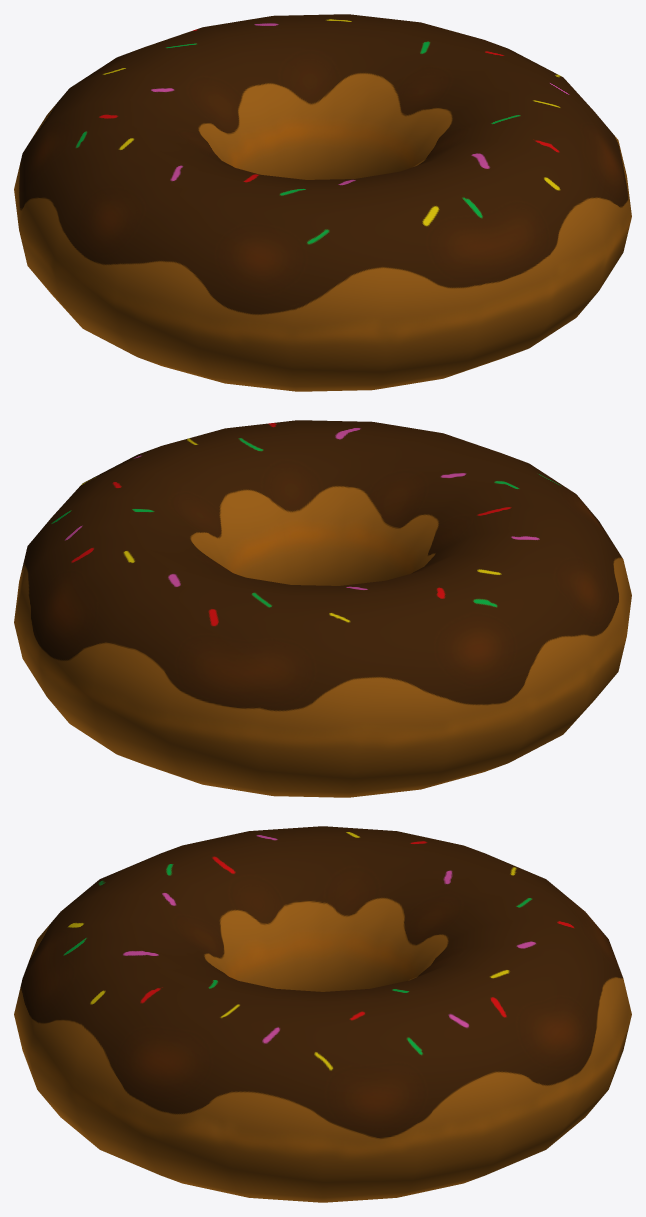
Rendered from dona.glb.
The picture shows the model from 3 angles, top to bottom: view 1: azimuth 30°, elevation 25°; view 2: azimuth 150°, elevation 25°; view 3: azimuth 270°, elevation 25°; orthographic projection.
Parts seen in each view (by area): view 1: pTorus2; view 2: pTorus2; view 3: pTorus2.
Part boxes in pixels (<box>): pTorus2: <box>14,14,631,391</box>; pTorus2: <box>14,420,631,797</box>; pTorus2: <box>14,826,631,1202</box>.
Bounding box in the file's own units: 0.0838 × 0.0282 × 0.0838.
1 material, 1 textured.
